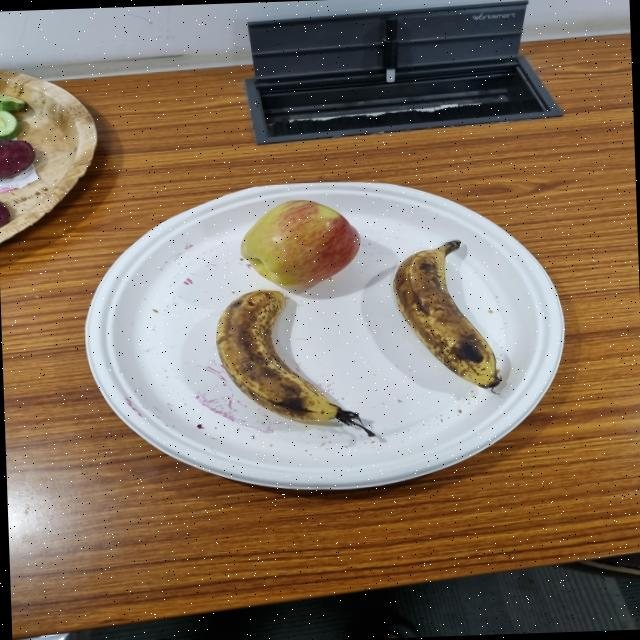apple: (244, 181, 369, 272)
banana: (64, 164, 252, 278), (114, 297, 313, 381)
